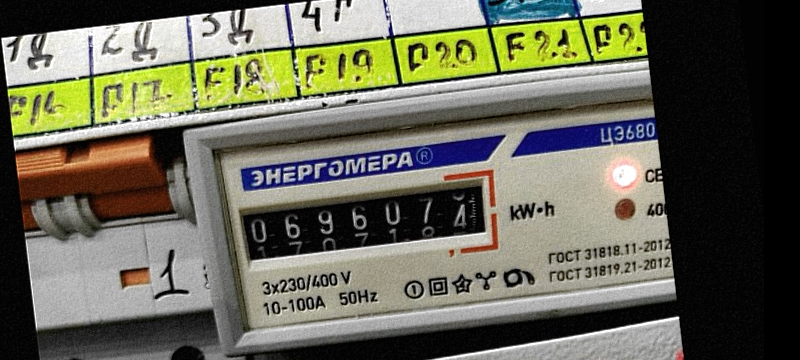0: (247, 216, 271, 246), (383, 197, 404, 228), (283, 212, 303, 240)
4: (450, 202, 470, 232)
6: (348, 201, 370, 233)
7: (416, 194, 437, 225)
9: (316, 207, 337, 237)
screen: (224, 165, 506, 281)
